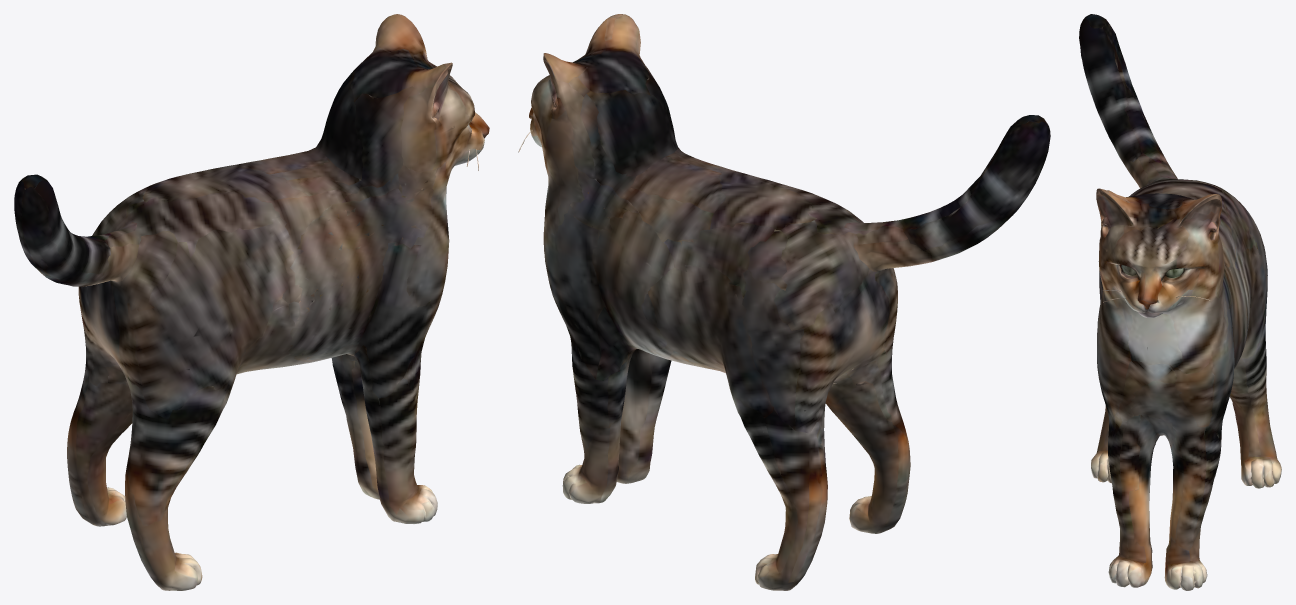
The model's file is LARRY10-lo.glb.
The picture shows the model from 3 angles, left to right: view 1: azimuth 30°, elevation 25°; view 2: azimuth 150°, elevation 25°; view 3: azimuth 270°, elevation 25°; orthographic projection. The views are drawn at different scales.
Visible parts, largest first — view 1: fit; view 2: fit; view 3: fit.
Part boxes in pixels (x1,y1,x2,y2): fit: (14,14,489,590); fit: (518,14,1050,590); fit: (1079,14,1281,590).
Bounding box in the file's own units: 1.14 × 0.9998 × 0.4568.
Materials: 1 (1 with a texture image).
